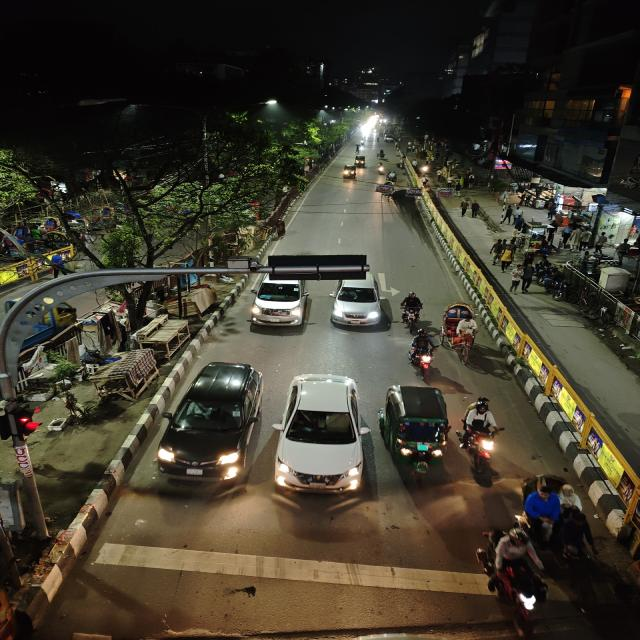car: (154, 359, 269, 488), (275, 370, 370, 500), (326, 273, 387, 333), (248, 276, 312, 333)
cng: (380, 380, 452, 476), (342, 164, 358, 180), (353, 154, 368, 168)
motorcycle: (472, 523, 556, 633), (461, 395, 508, 473), (406, 327, 439, 375), (397, 290, 425, 328), (376, 162, 386, 175)
pedestrian: (550, 268, 568, 301), (518, 263, 536, 293), (491, 238, 509, 268), (614, 238, 633, 266), (497, 245, 515, 272), (512, 212, 529, 238), (512, 263, 526, 293), (458, 198, 471, 218), (469, 199, 482, 219)
rickshaw: (439, 301, 481, 360), (386, 171, 398, 184), (378, 148, 388, 161)
